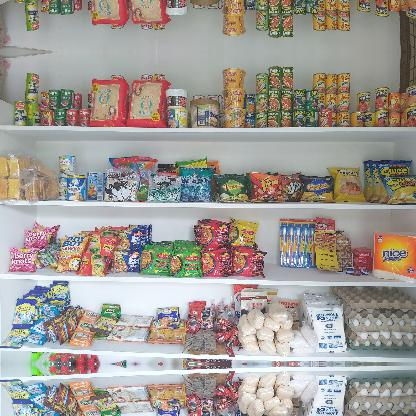Lady-s-Choice: (190, 98, 218, 127), (189, 0, 219, 6)
